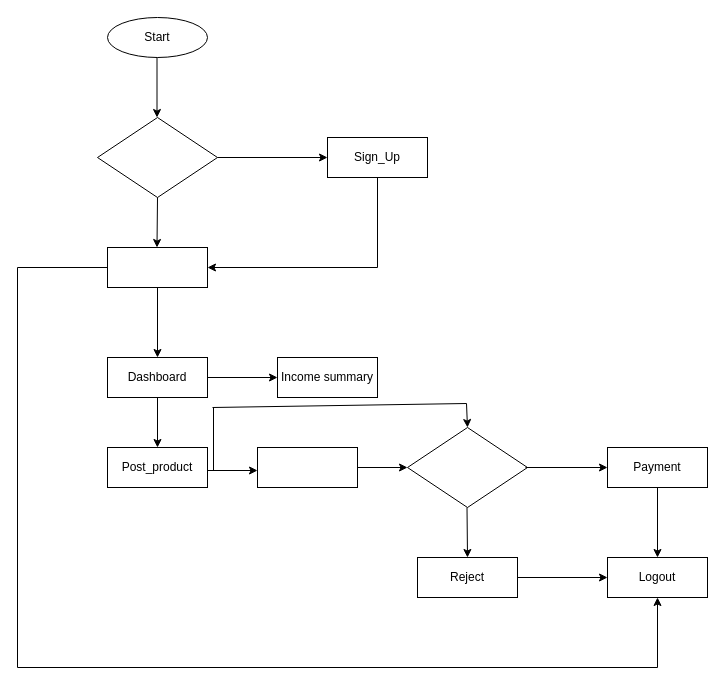
The diagram is 725 pixels wide and 693 high, and some of its shapes have lost their labels. Here are the shapes that lost their labels. From the top down, the centre of each, then its label:
At (157,157): "Already have an account".
At (157,267): "Login".
At (307,467): "Q/A".
At (467,467): "Bids".
